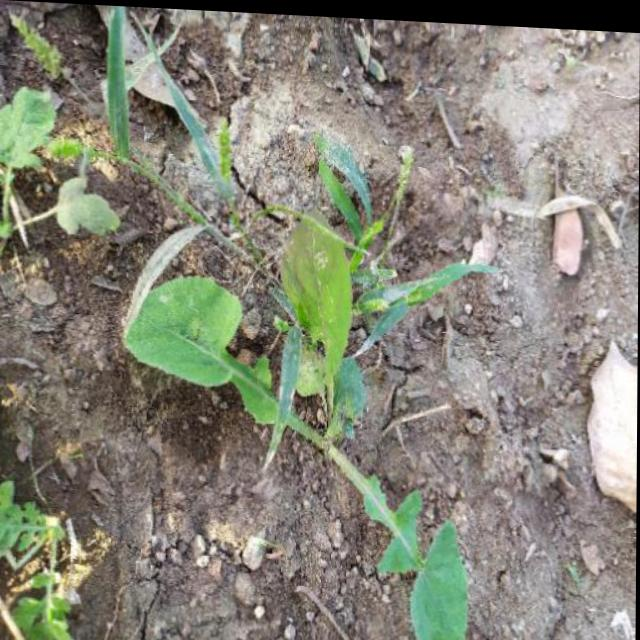weed: (19, 46, 541, 640)
